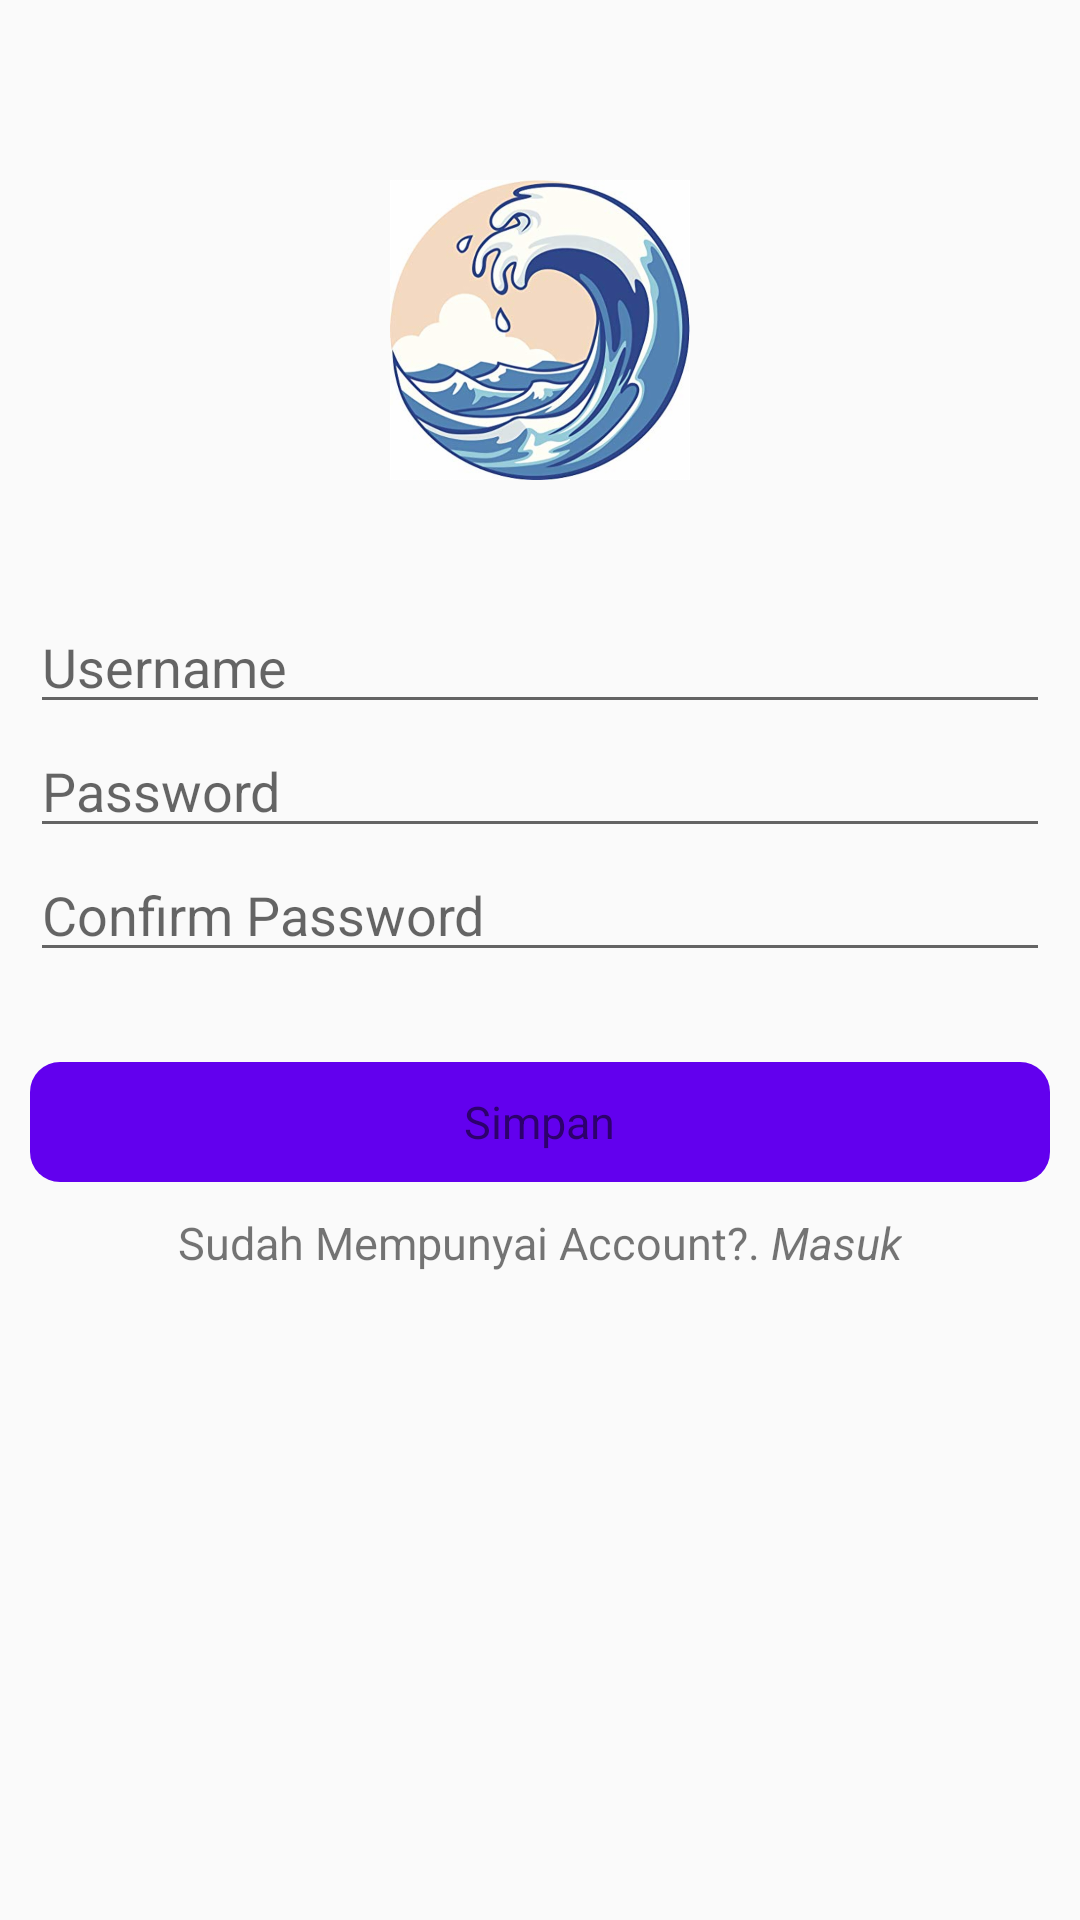

Locate icon controls on the screen. Image size 1080 × 1920, boxes as Rect(x1, y1, x2, y2).
oceans: Rect(390, 180, 690, 480)
